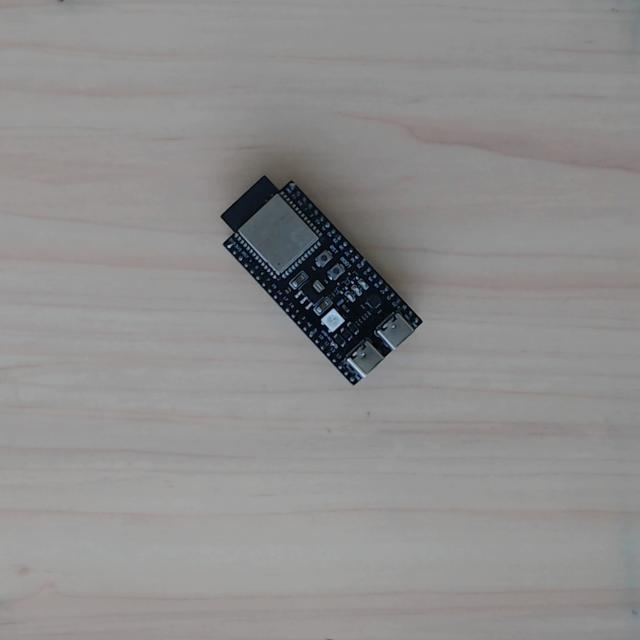ESP32S3-Devkit: (206, 163, 425, 388)
